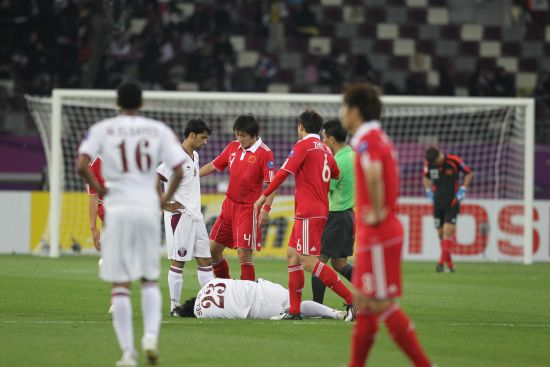10+: (9, 3, 550, 365)
down: (161, 269, 373, 327)
